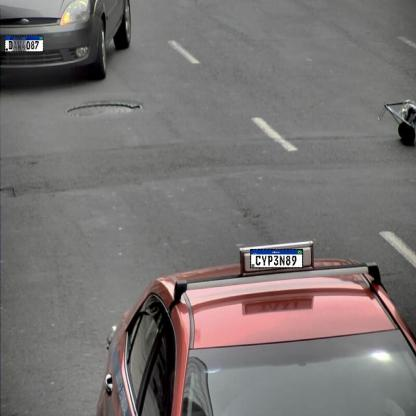PlacaM: (250, 249, 303, 268), (5, 35, 44, 52)
